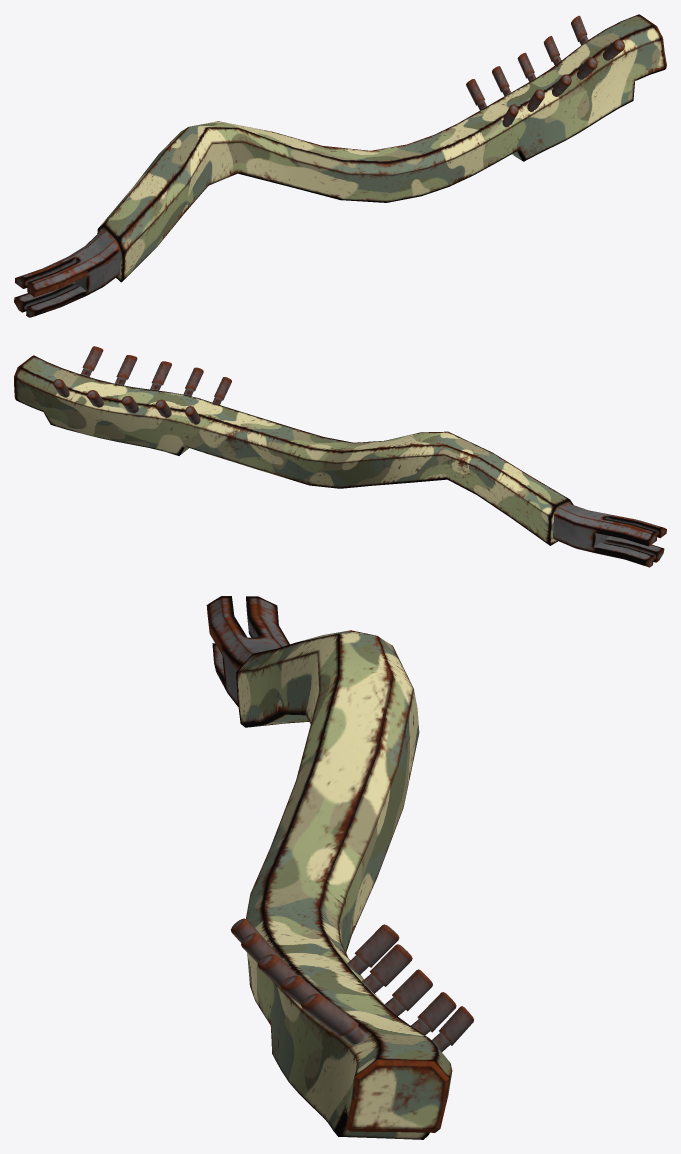
Rendered from SM_Canon_Muzzle_01_002.fbx.
The picture shows the model from 3 angles, top to bottom: view 1: azimuth 30°, elevation 25°; view 2: azimuth 150°, elevation 25°; view 3: azimuth 270°, elevation 25°; orthographic projection. The views are drawn at different scales.
Visible parts, largest first — view 1: SM_Canon_Muzzle_01.002; view 2: SM_Canon_Muzzle_01.002; view 3: SM_Canon_Muzzle_01.002.
Part boxes in pixels (x1=…): SM_Canon_Muzzle_01.002: x1=14, y1=14, x2=666, y2=317; SM_Canon_Muzzle_01.002: x1=14, y1=346, x2=666, y2=567; SM_Canon_Muzzle_01.002: x1=206, y1=596, x2=473, y2=1139.
Size of the model in its own units: 1166 by 194 by 227.
